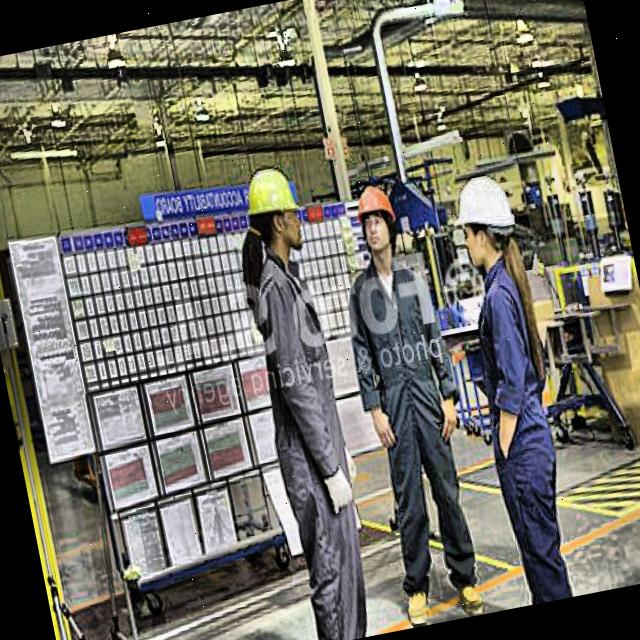helmet: (441, 161, 529, 286), (235, 154, 315, 271), (341, 175, 411, 273)
